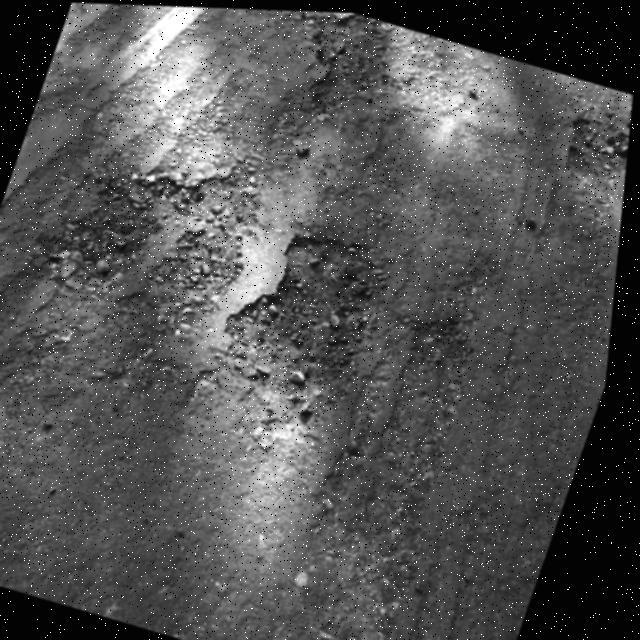pothole: (204, 205, 408, 427), (50, 142, 262, 319), (274, 8, 425, 138), (542, 100, 634, 206)
